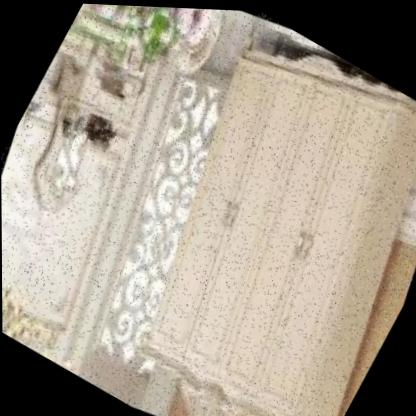Closet: (57, 2, 416, 416)
